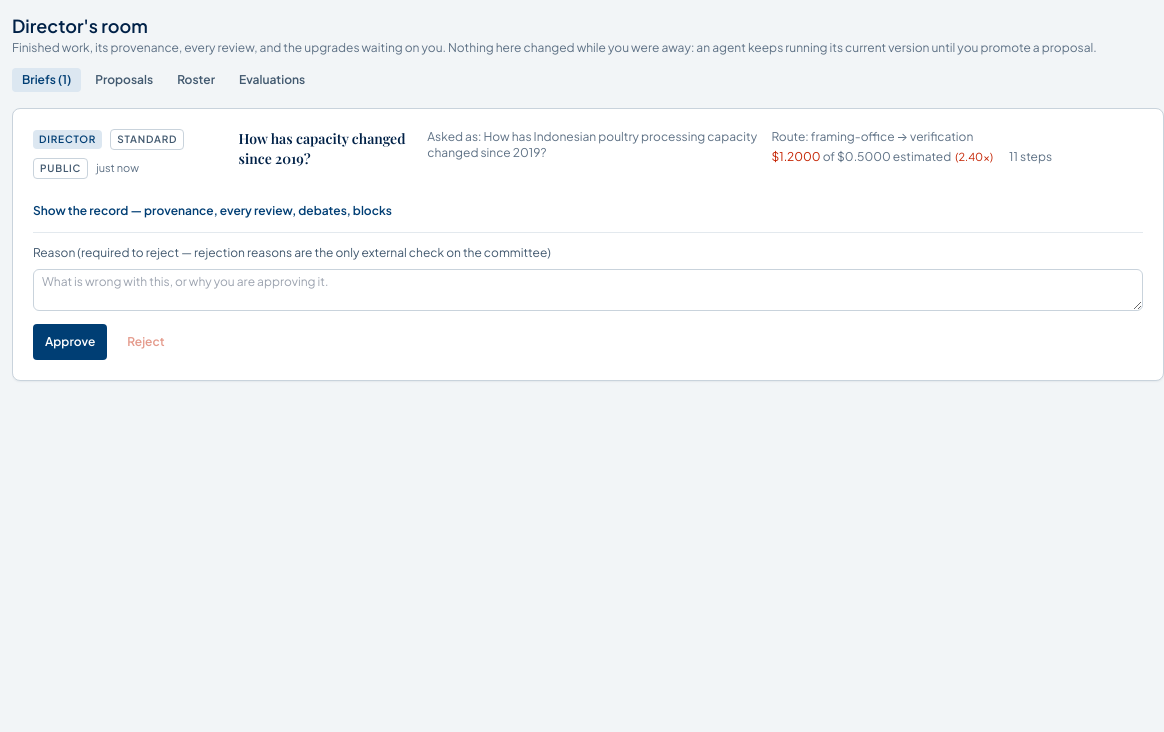
§3 a brief shows its record › shows cost against estimate, the reviews, and the archive behind them
Click the button "Show the record — provenance, every review, debates, blocks" at (212, 211), box [33, 203, 392, 219]
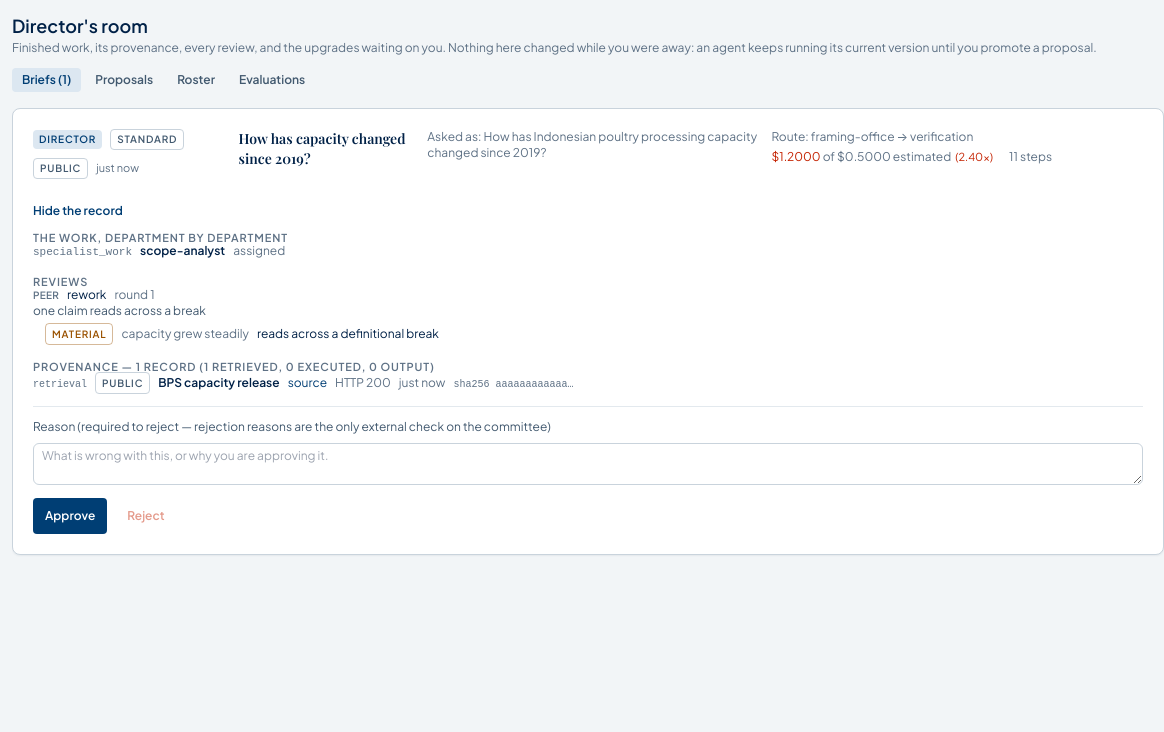
Result: the text "BPS capacity release" is shown at [158, 375, 280, 391]
Result: the text "reads across a definitional break" is shown at [257, 326, 439, 342]
Result: the text "sha256 aaaaaaaaaaaa…" is shown at [453, 377, 573, 393]
